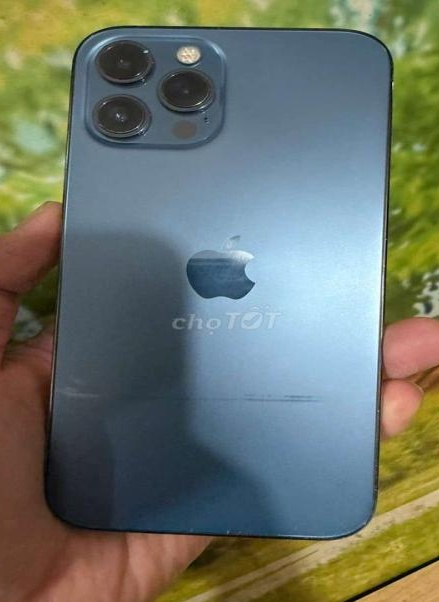scratch: (42, 358, 355, 452)
